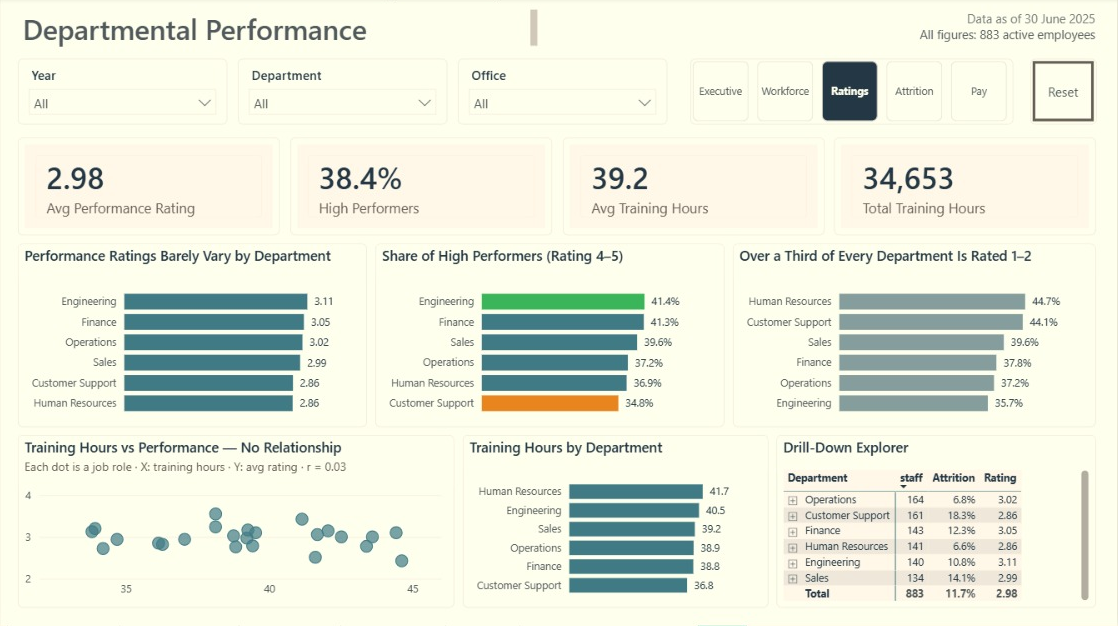

This screenshot's page, from the dashboard's own definition file:
{"tool":"powerbi","page":{"name":"Ratings","canvas":[1280,720],"ordinal":2},"visuals":[{"type":"textbox","box":[1000,8,260,52],"z":0},{"type":"slicer","title":"Department","fields":{"Values":["Employees.Department"]},"box":[272,70,240,75],"z":1000},{"type":"slicer","title":"Department","fields":{"Values":["Employees.Office Location"]},"box":[524,70,240,75],"z":2000},{"type":"slicer","title":"Department","fields":{"Values":["Date Table.Year"]},"box":[20,70,240,75],"z":3000},{"type":"textbox","box":[20,8,600,52],"z":4000},{"type":"cardVisual","fields":{"Data":["_Measures.Avg Rating (Active)"]},"box":[20,160,300,112],"z":5000},{"type":"cardVisual","fields":{"Data":["_Measures.% High Performers (Active)"]},"box":[332,160,300,112],"z":6000},{"type":"cardVisual","fields":{"Data":["_Measures.Avg Training Hours (Active)"]},"box":[644,160,300,112],"z":7000},{"type":"cardVisual","fields":{"Data":["_Measures.Total Training Hours (Active)"]},"box":[956,160,300,112],"z":8000},{"type":"clusteredBarChart","title":"Performance Ratings Barely Vary by Department","fields":{"Category":["Employees.Department"],"Y":["_Measures.Avg Rating (Active)"]},"box":[20,282,400,210],"z":9000},{"type":"clusteredBarChart","title":"Share of High Performers (Rating 4–5)","fields":{"Category":["Employees.Department"],"Y":["_Measures.% High Performers (Active)"]},"box":[430,282,400,210],"z":10000},{"type":"clusteredBarChart","title":"Over a Third of Every Department Is Rated 1–2","fields":{"Category":["Employees.Department"],"Y":["_Measures.% Low Performers (Active)"]},"box":[840,282,416,210],"z":11000},{"type":"scatterChart","title":"Training Hours vs Performance — No Relationship","fields":{"X":["_Measures.Avg Training Hours (Active)"],"Y":["_Measures.Avg Rating (Active)"],"Category":["Employees.Job Role"]},"box":[20,502,500,198],"z":12000},{"type":"clusteredBarChart","title":"Training Hours by Department","fields":{"Category":["Employees.Department"],"Y":["_Measures.Avg Training Hours (Active)"]},"box":[530,502,350,198],"z":13000},{"type":"pivotTable","title":"Drill-Down Explorer","fields":{"Rows":["Employees.Organisation.Department","Employees.Organisation.Job Role"],"Values":["_Measures.Active Employees","_Measures.Attrition Rate","_Measures.Avg Rating (Active)"]},"box":[890,502,366,198],"z":14000},{"type":"actionButton","box":[1180,70,76,75],"z":15000},{"type":"pageNavigator","box":[790,70,370,75],"z":16000}]}

Visuals, with their boxes in screenshot pixels (x1, y1, x2, y2), scaled from the page's 1280x720 canvas onto the 1118x626 screenshot:
textbox: detection(873, 7, 1101, 52)
"Department" slicer: detection(238, 61, 447, 126)
"Department" slicer: detection(458, 61, 667, 126)
"Department" slicer: detection(17, 61, 227, 126)
textbox: detection(17, 7, 542, 52)
cardVisual - _Measures.Avg Rating (Active): detection(17, 139, 280, 236)
cardVisual - _Measures.% High Performers (Active): detection(290, 139, 552, 236)
cardVisual - _Measures.Avg Training Hours (Active): detection(562, 139, 825, 236)
cardVisual - _Measures.Total Training Hours (Active): detection(835, 139, 1097, 236)
"Performance Ratings Barely Vary by Department" clusteredBarChart: detection(17, 245, 367, 428)
"Share of High Performers (Rating 4–5)" clusteredBarChart: detection(376, 245, 725, 428)
"Over a Third of Every Department Is Rated 1–2" clusteredBarChart: detection(734, 245, 1097, 428)
"Training Hours vs Performance — No Relationship" scatterChart: detection(17, 436, 454, 609)
"Training Hours by Department" clusteredBarChart: detection(463, 436, 769, 609)
"Drill-Down Explorer" pivotTable: detection(777, 436, 1097, 609)
actionButton: detection(1031, 61, 1097, 126)
pageNavigator: detection(690, 61, 1013, 126)
